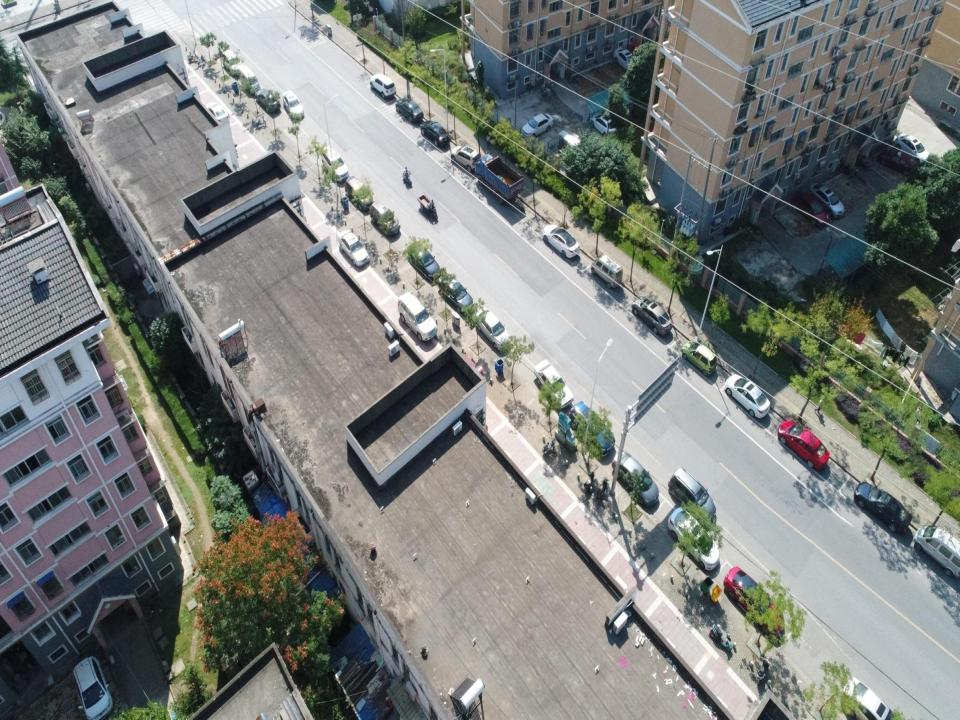car: (723, 566, 785, 636), (667, 507, 720, 571), (853, 481, 913, 534), (567, 400, 616, 460), (70, 654, 114, 719), (611, 450, 659, 509), (777, 418, 830, 471), (668, 467, 716, 523), (723, 374, 770, 420), (397, 290, 437, 344), (533, 359, 574, 411), (841, 676, 890, 719), (631, 295, 674, 338), (474, 307, 512, 354), (541, 222, 580, 260), (808, 180, 845, 220), (794, 189, 830, 230), (438, 273, 473, 315), (680, 340, 718, 377), (337, 228, 371, 268), (368, 199, 401, 238), (876, 146, 920, 175), (890, 133, 930, 164), (409, 242, 441, 280), (320, 145, 350, 184), (343, 175, 373, 210), (453, 350, 483, 381), (521, 112, 555, 139), (450, 145, 482, 173), (420, 119, 450, 148), (588, 111, 619, 139), (396, 96, 424, 125), (369, 72, 397, 100), (612, 45, 639, 73), (282, 90, 304, 122), (204, 101, 230, 127), (254, 89, 281, 113), (221, 48, 242, 76)
truck: (475, 154, 525, 204)
van: (913, 524, 959, 578), (590, 254, 623, 289), (236, 63, 261, 96)
